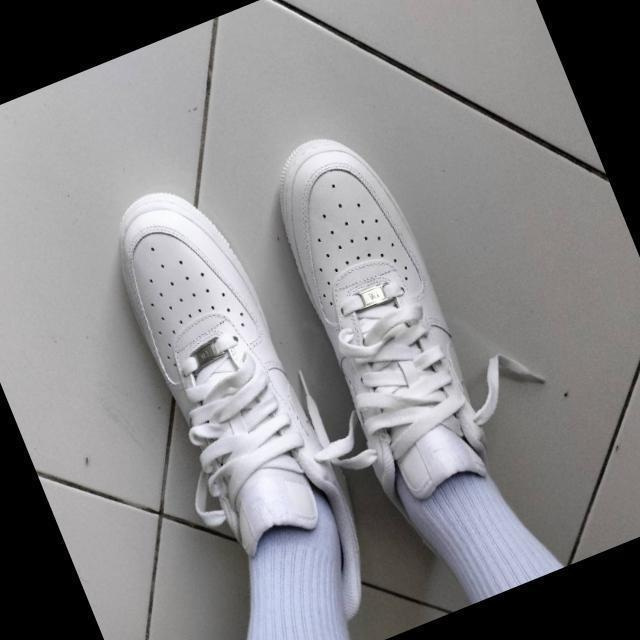nike original air force: (84, 159, 399, 640), (247, 112, 536, 572)
